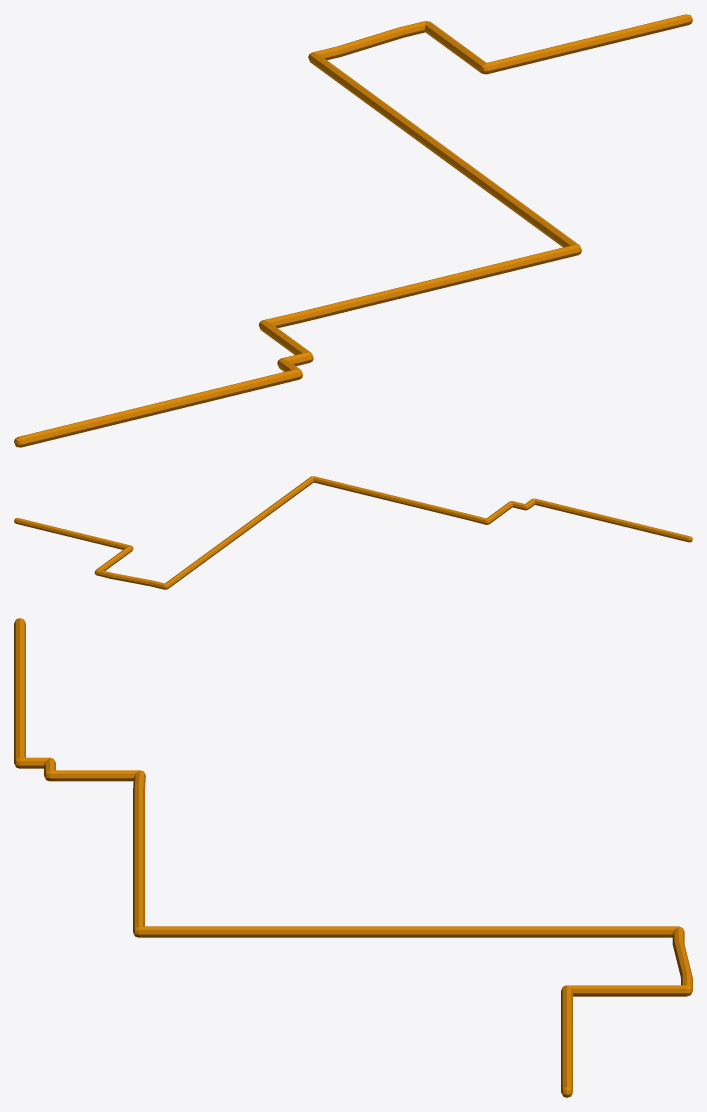
3 renders of one model, top to bottom at view 1: azimuth 30°, elevation 25°; view 2: azimuth 150°, elevation 25°; view 3: azimuth 270°, elevation 25°, orthographic. The views are drawn at different scales.
Bounding box in the file's own units: 1868 × 20 × 1132.
